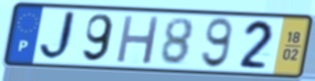2: (236, 18, 276, 72)
8: (158, 17, 197, 67)
9: (199, 15, 236, 71), (80, 12, 115, 64)
H: (114, 13, 163, 66)
J: (37, 10, 82, 63)
